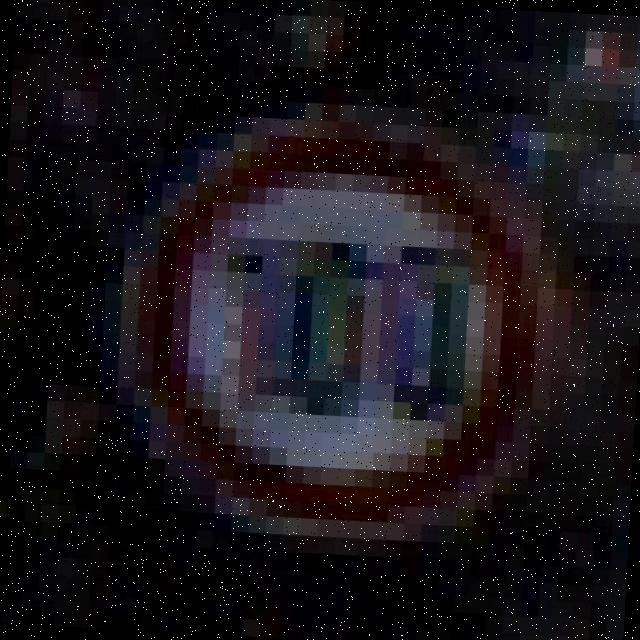Ograniczenie predkosci do 100: (126, 108, 550, 538)
